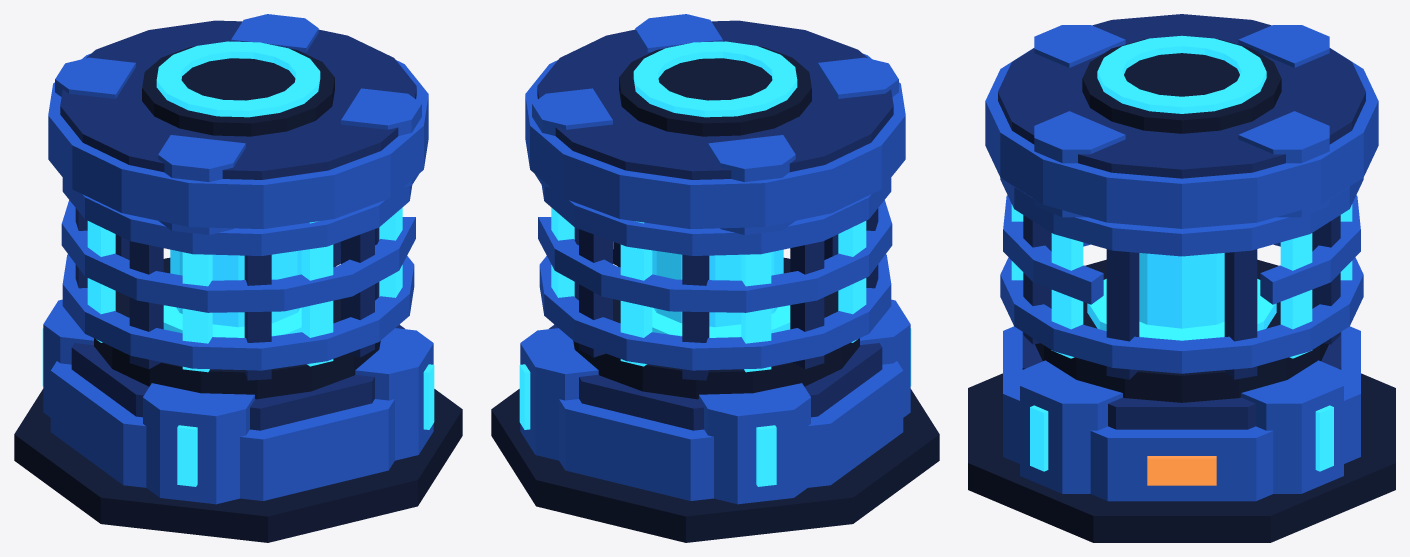
The model's file is receiver.glb.
The picture shows the model from 3 angles, left to right: view 1: azimuth 30°, elevation 25°; view 2: azimuth 150°, elevation 25°; view 3: azimuth 270°, elevation 25°; orthographic projection. The views are drawn at different scales.
Parts seen in each view (by area): view 1: Receiver_Body, Receiver_Lights, Receiver_Core; view 2: Receiver_Body, Receiver_Lights, Receiver_Core; view 3: Receiver_Body, Receiver_Lights, Receiver_Core.
Boxes of the visible parts, x1,y1,x2,y2 form: Receiver_Body: (14,14,462,542); Receiver_Lights: (42,41,434,486); Receiver_Core: (163,249,301,337); Receiver_Body: (491,14,939,542); Receiver_Lights: (519,41,911,486); Receiver_Core: (652,249,790,337); Receiver_Body: (968,14,1395,542); Receiver_Lights: (1011,35,1352,485); Receiver_Core: (1087,253,1276,340).
Bounding box in the file's own units: 0.86 × 0.8801 × 0.86.
